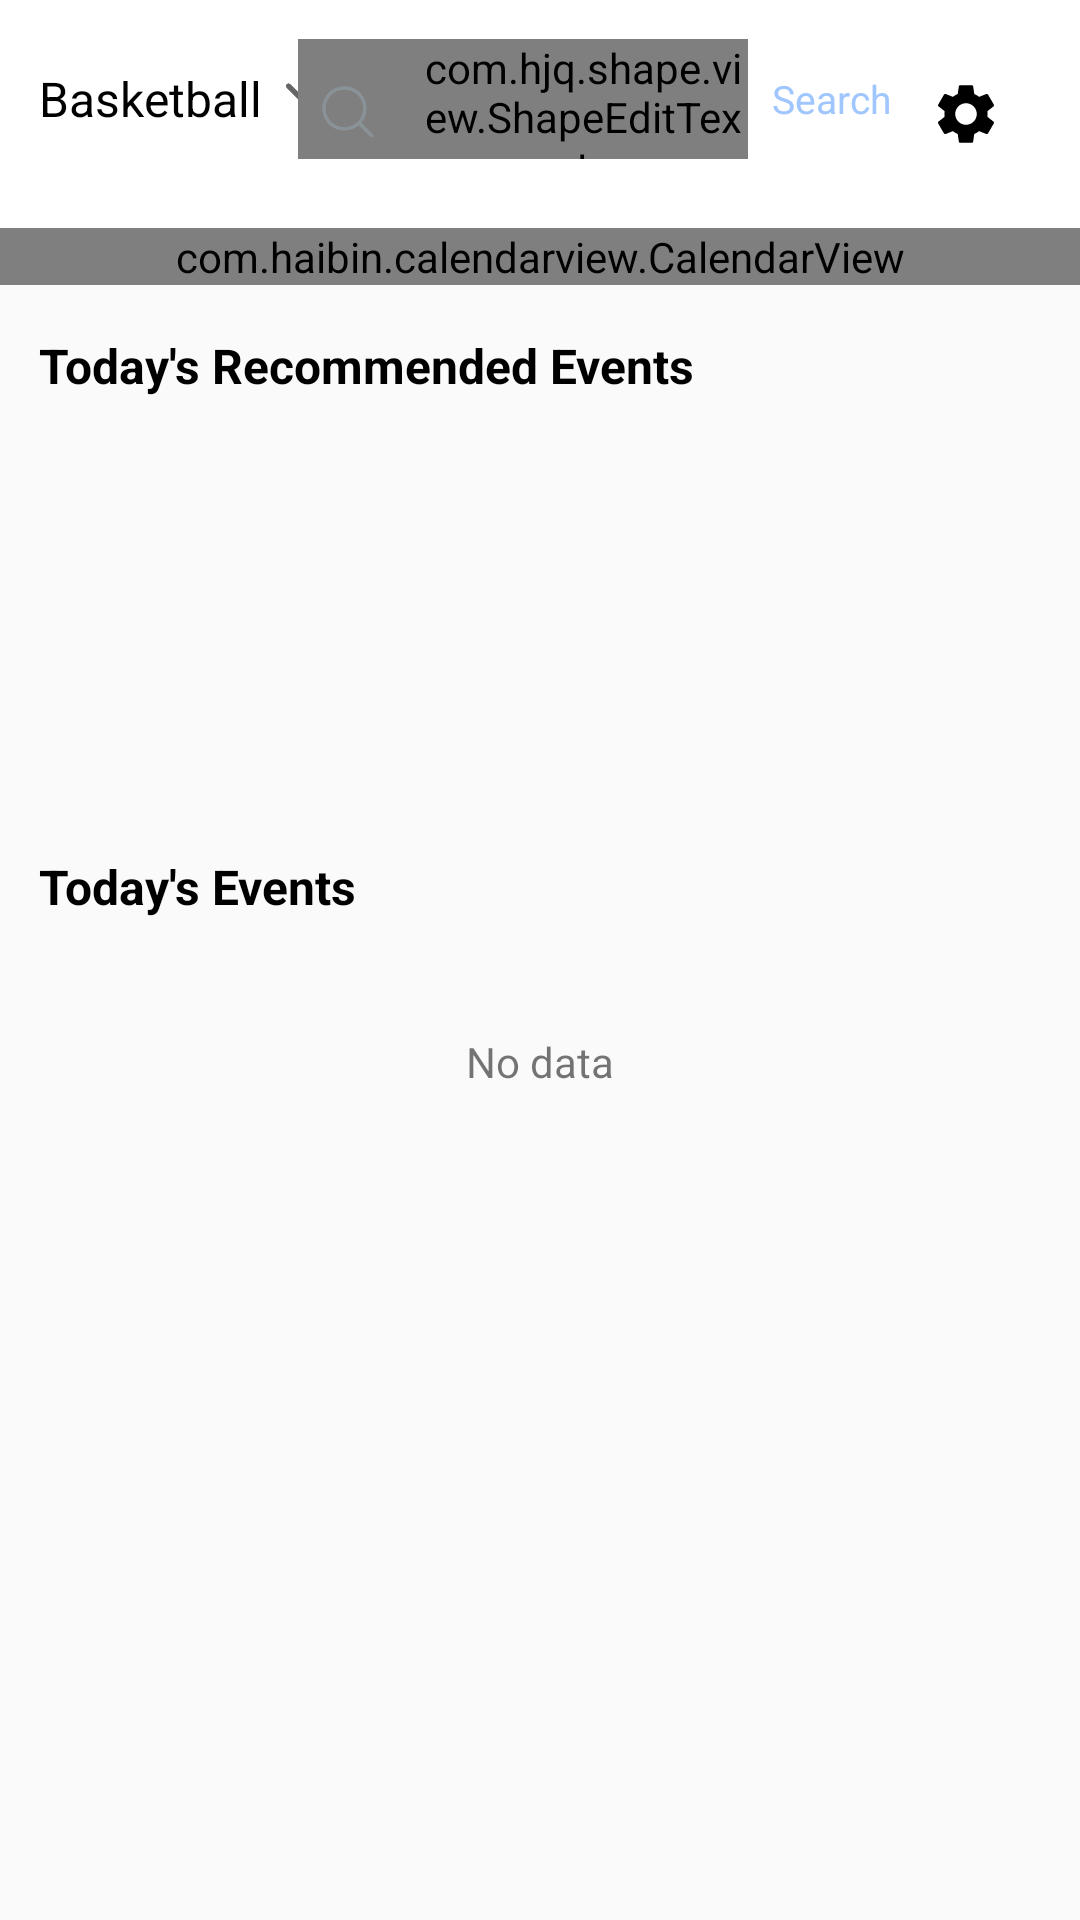

Screen size 1080w x 1920h. Icon name, then its center in pixels as [x,y]:
settings: [966,114]
